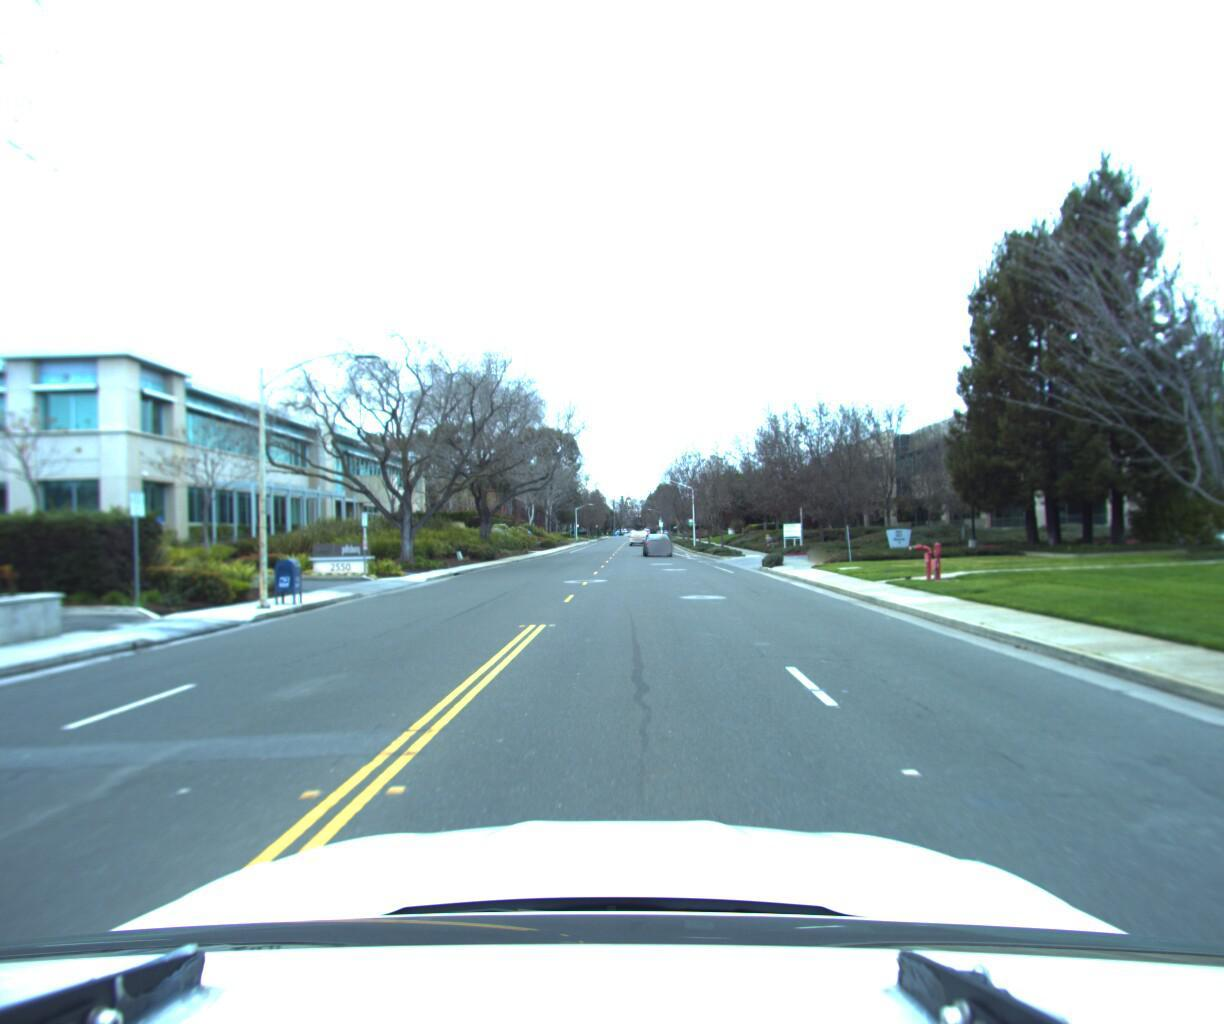car: (642, 529, 673, 551), (630, 527, 649, 540)
